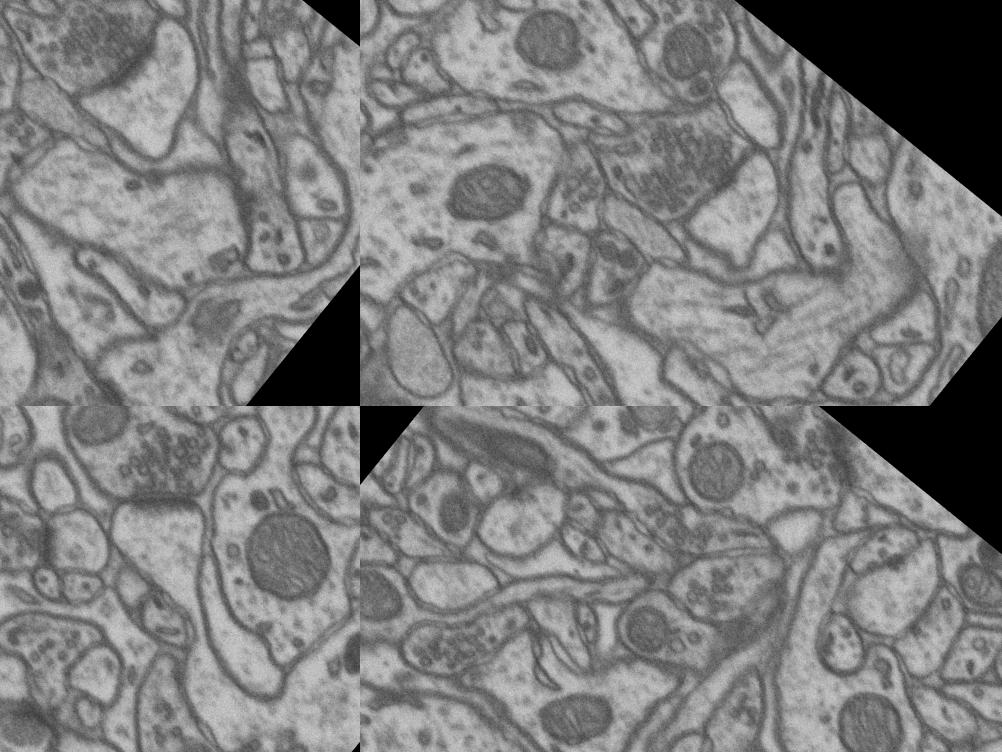mitochondria: (404, 406, 587, 528), (217, 482, 360, 630), (432, 135, 552, 255), (672, 416, 786, 531), (495, 0, 614, 102), (808, 665, 941, 752), (501, 658, 619, 752), (920, 224, 1002, 356), (360, 524, 439, 661), (637, 3, 734, 101), (612, 577, 708, 676), (926, 529, 1002, 627), (592, 406, 709, 458), (67, 406, 170, 465), (0, 372, 110, 406), (969, 533, 1002, 569)
